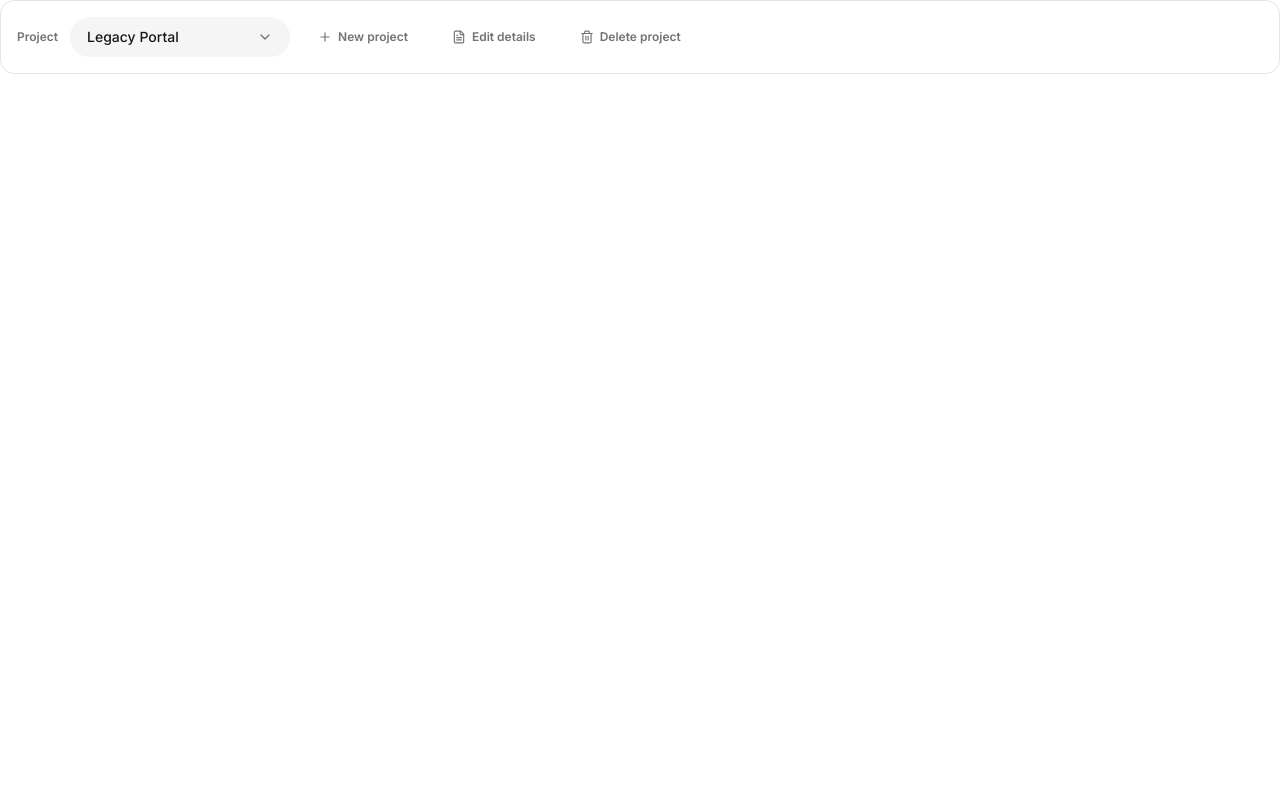
ProjectPicker › deleting the open project › lets you back out with Cancel
Click the button "Delete project".
click(630, 37)  # box top-left (564, 19), bottom-right (697, 55)
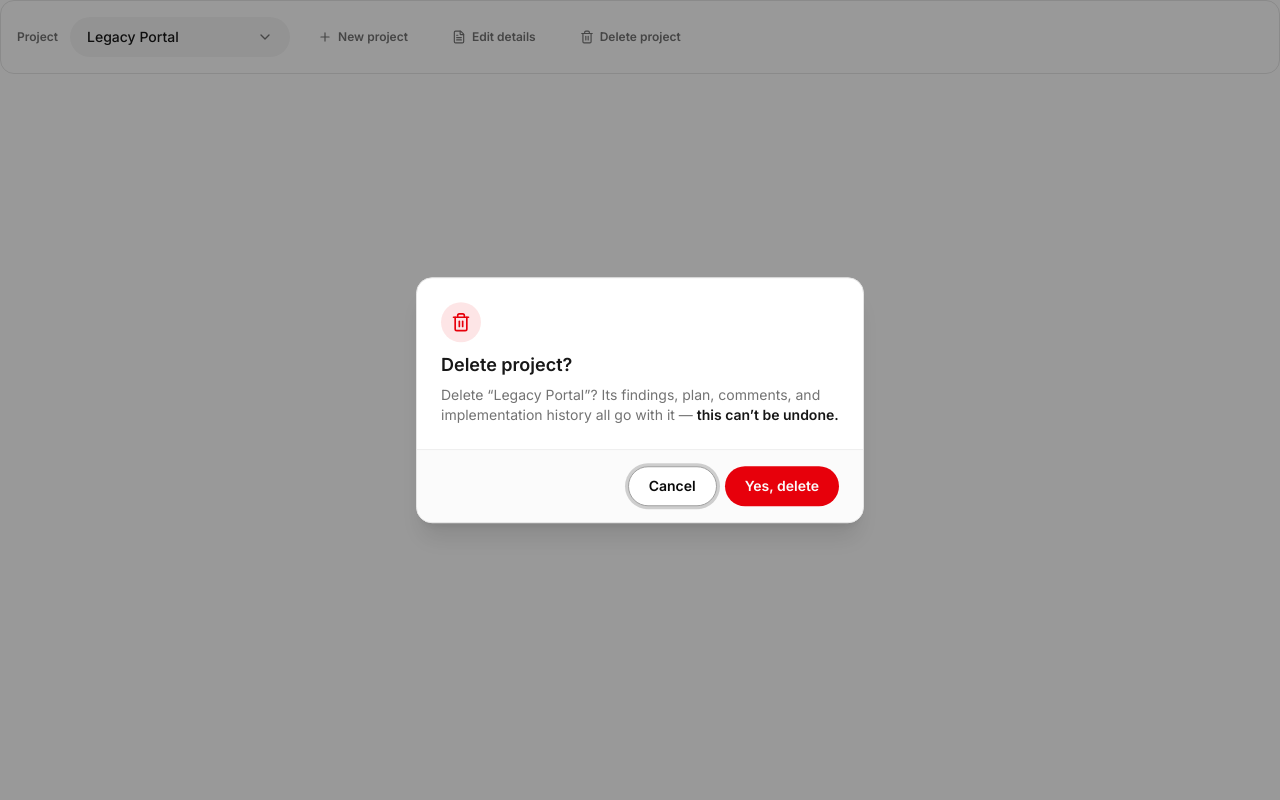
Click the button "Cancel".
click(672, 486)  # box top-left (628, 466), bottom-right (717, 506)
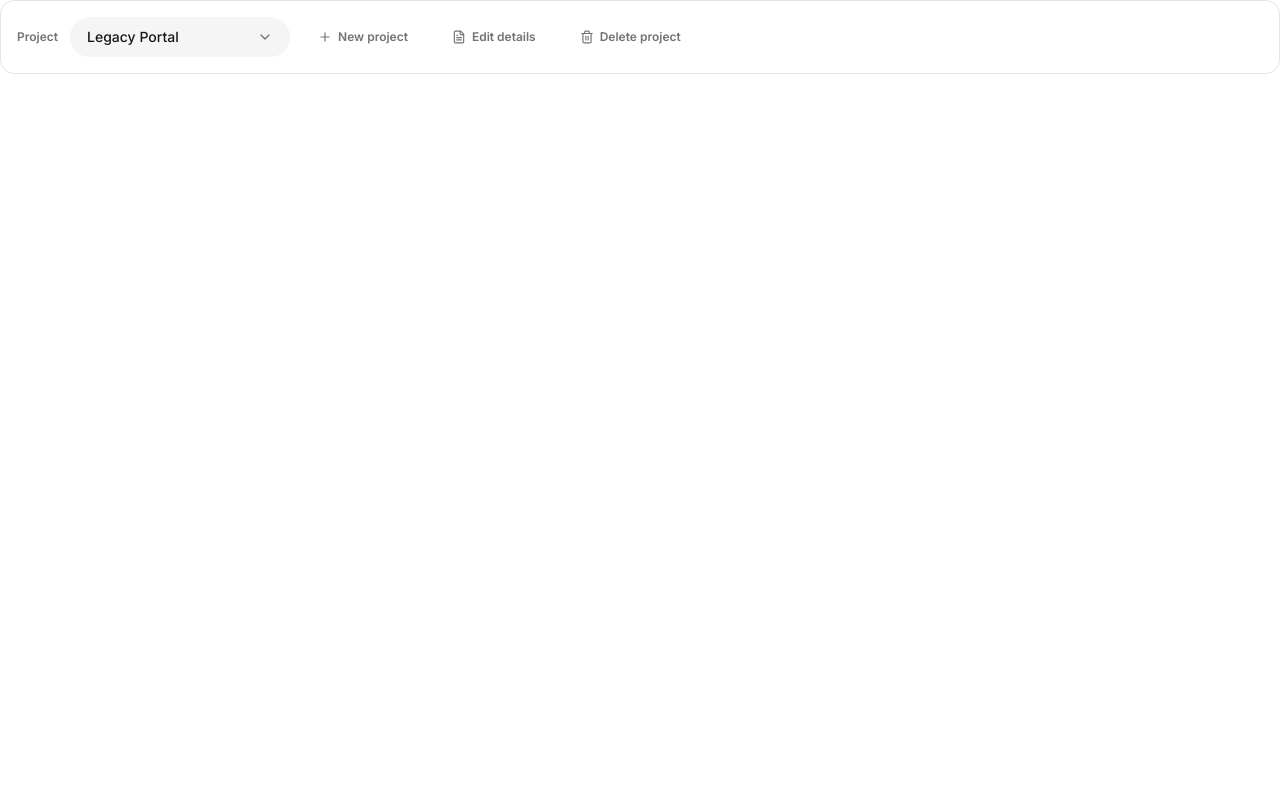
Expected: the button "Delete project" is shown, top-left (564, 19), bottom-right (697, 55)
Result: the dialog is gone
